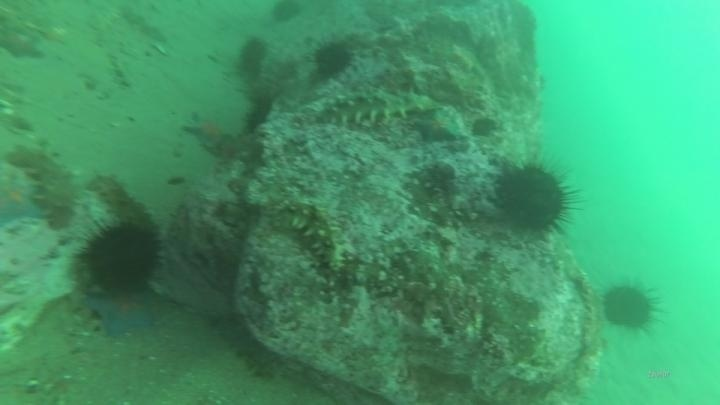echinus: (490, 156, 581, 239), (79, 218, 165, 295), (600, 279, 663, 335), (311, 39, 355, 80), (240, 93, 277, 137), (235, 36, 270, 79), (268, 0, 304, 26)
holothurian: (6, 140, 81, 228), (277, 194, 348, 275), (316, 84, 438, 130), (89, 171, 157, 230), (577, 280, 609, 361)
starfish: (81, 285, 160, 339), (0, 176, 49, 229), (182, 111, 234, 152), (412, 109, 462, 145), (0, 28, 47, 62)
